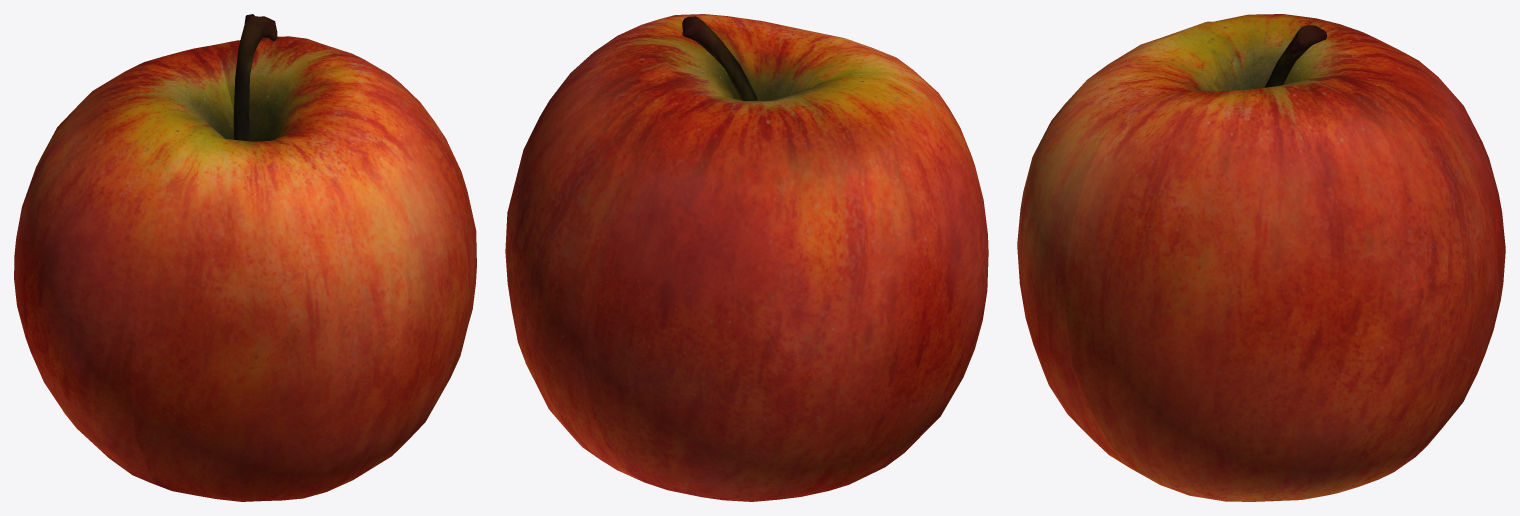
3 views of the same model, side by side, from view 1: azimuth 30°, elevation 25°; view 2: azimuth 150°, elevation 25°; view 3: azimuth 270°, elevation 25° (orthographic). The views are drawn at different scales.
Visible parts, largest first — view 1: apple_low_obj_Material #35_0; view 2: apple_low_obj_Material #35_0; view 3: apple_low_obj_Material #35_0.
Part boxes in pixels (x1,y1,x2,y2): apple_low_obj_Material #35_0: (14,14,476,501); apple_low_obj_Material #35_0: (505,14,988,501); apple_low_obj_Material #35_0: (1017,14,1505,501).
Size of the model in its own units: 0.08 by 0.08 by 0.08.
1 material, 1 textured.
